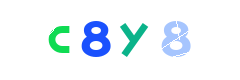8: (57, 0, 137, 80), (121, 0, 201, 80)
C: (56, 0, 136, 80)
Y: (79, 0, 159, 80)
